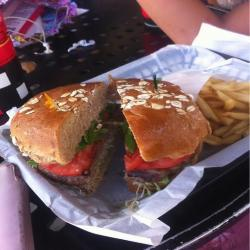burger: (14, 76, 211, 201)
fries: (191, 72, 250, 143)
